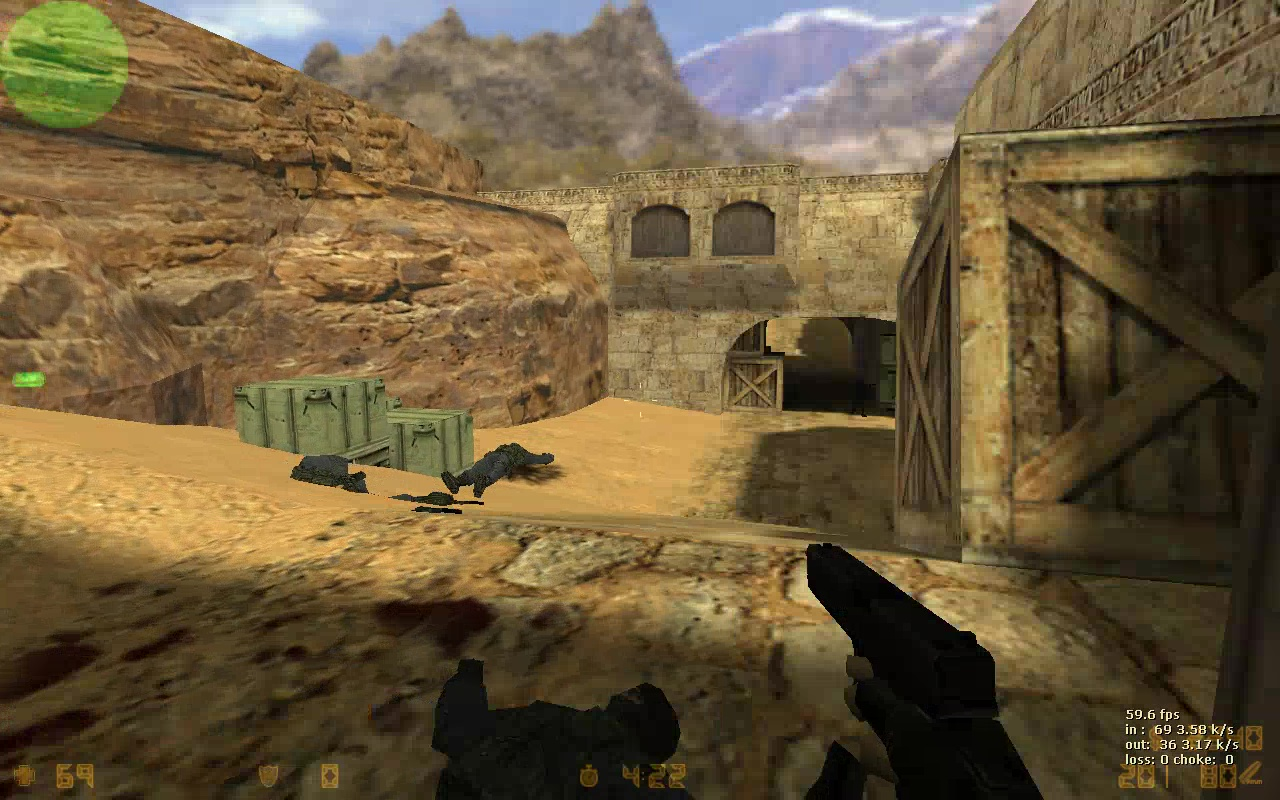dead: (437, 443, 553, 499)
